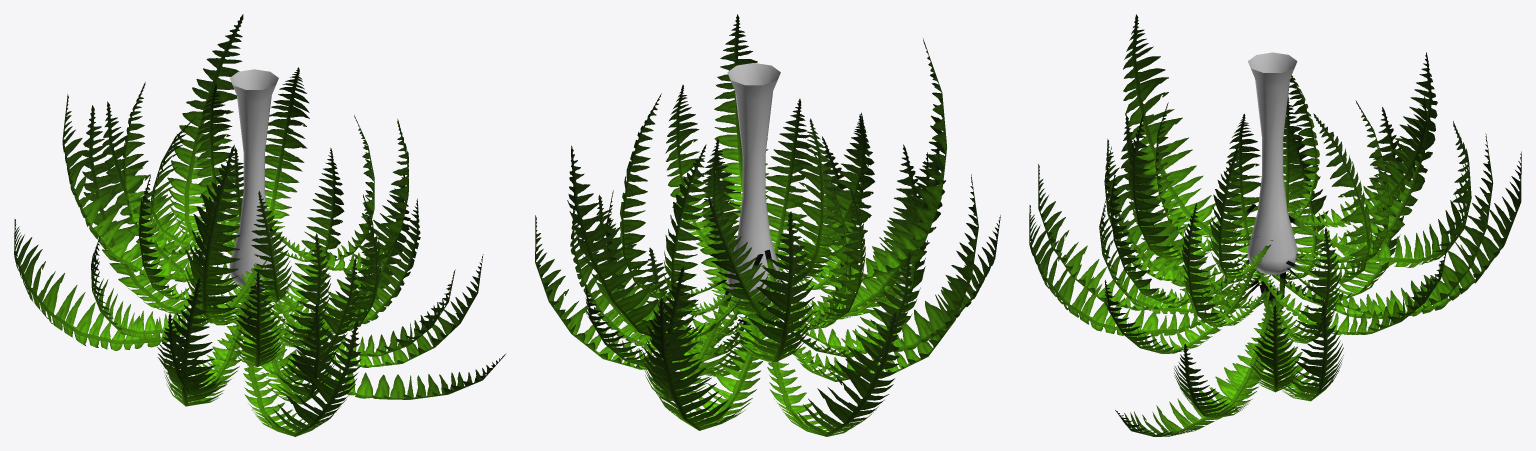
The model's file is Fern (1).FBX.
3 renders of one model, left to right at view 1: azimuth 30°, elevation 25°; view 2: azimuth 150°, elevation 25°; view 3: azimuth 270°, elevation 25°, orthographic. The views are drawn at different scales.
Parts seen in each view (by area): view 1: Cylinder014; view 2: Cylinder014; view 3: Cylinder014.
Boxes of the visible parts, x1,y1,x2,y2 form: Cylinder014: (14, 14, 506, 436); Cylinder014: (535, 14, 1000, 436); Cylinder014: (1029, 14, 1521, 436).
Bounding box in the file's own units: 299 × 247 × 341.
